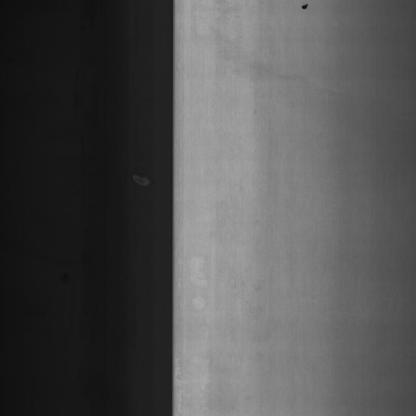inclusion: (300, 1, 310, 15)
